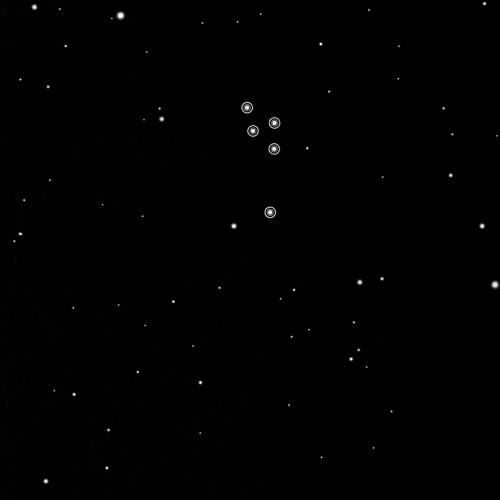delphinus: (234, 94, 289, 227)
